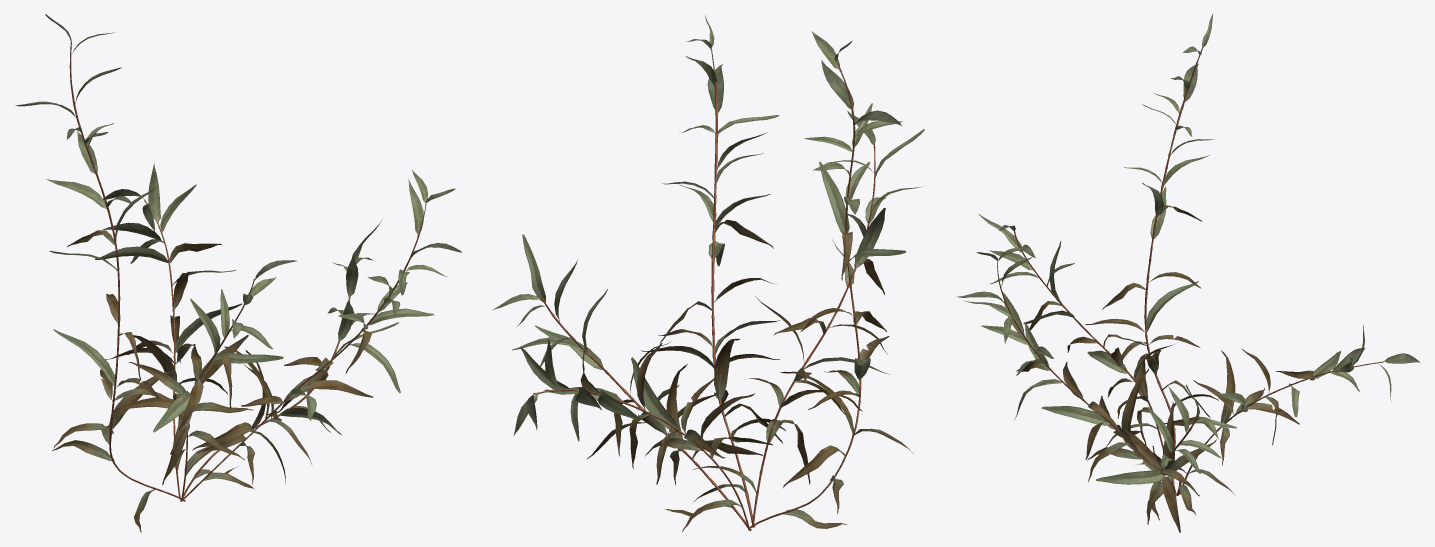
File: shrub_02_0.glb
3 views of the same model, side by side, from view 1: azimuth 30°, elevation 25°; view 2: azimuth 150°, elevation 25°; view 3: azimuth 270°, elevation 25° (orthographic). The views are drawn at different scales.
Parts seen in each view (by area): view 1: shrub_02_a; view 2: shrub_02_a; view 3: shrub_02_a.
Boxes of the visible parts, <box> form: shrub_02_a: <box>15,14,461,532</box>; shrub_02_a: <box>492,15,924,531</box>; shrub_02_a: <box>956,14,1419,532</box>.
Bounding box in the file's own units: 1.31 × 1.69 × 1.64.
Materials: 1 (1 with a texture image).
